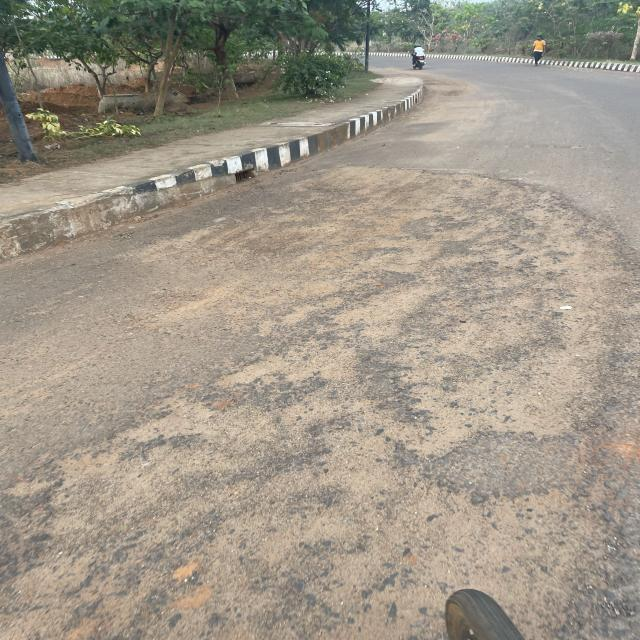D43: (334, 232, 562, 562)
